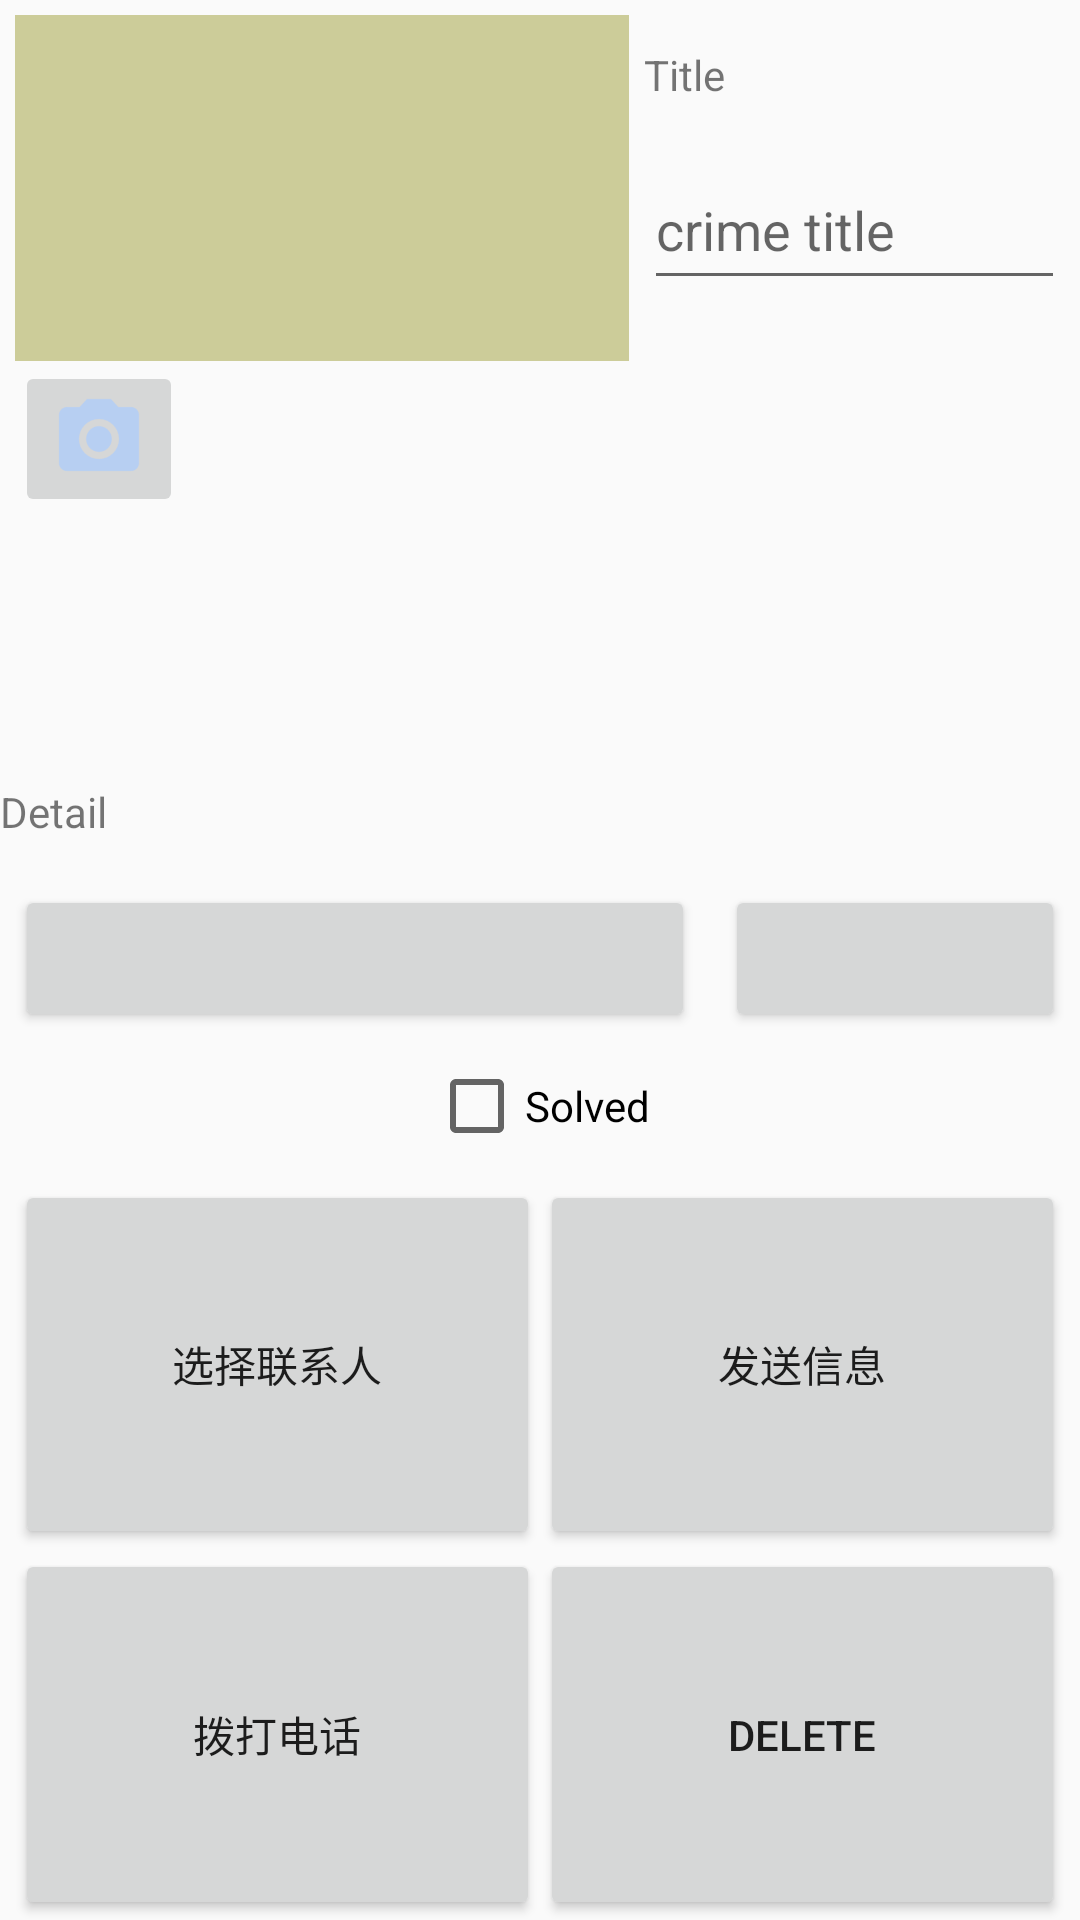

Icon click points for this 1080px×1920px phone screenshot, format (x=x, y=y):
crime camera: (x=99, y=439)
